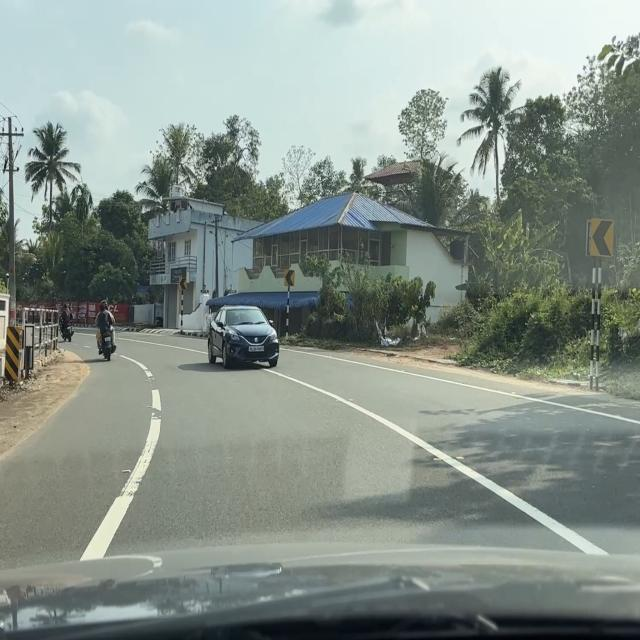TURN_LEFT: (591, 218, 614, 258), (284, 269, 295, 287), (179, 278, 187, 290)
